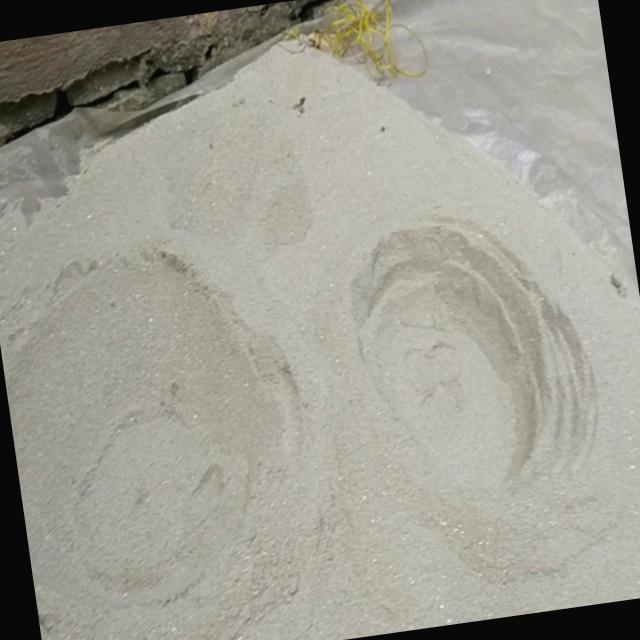C20: (7, 254, 275, 601), (351, 224, 567, 502)
